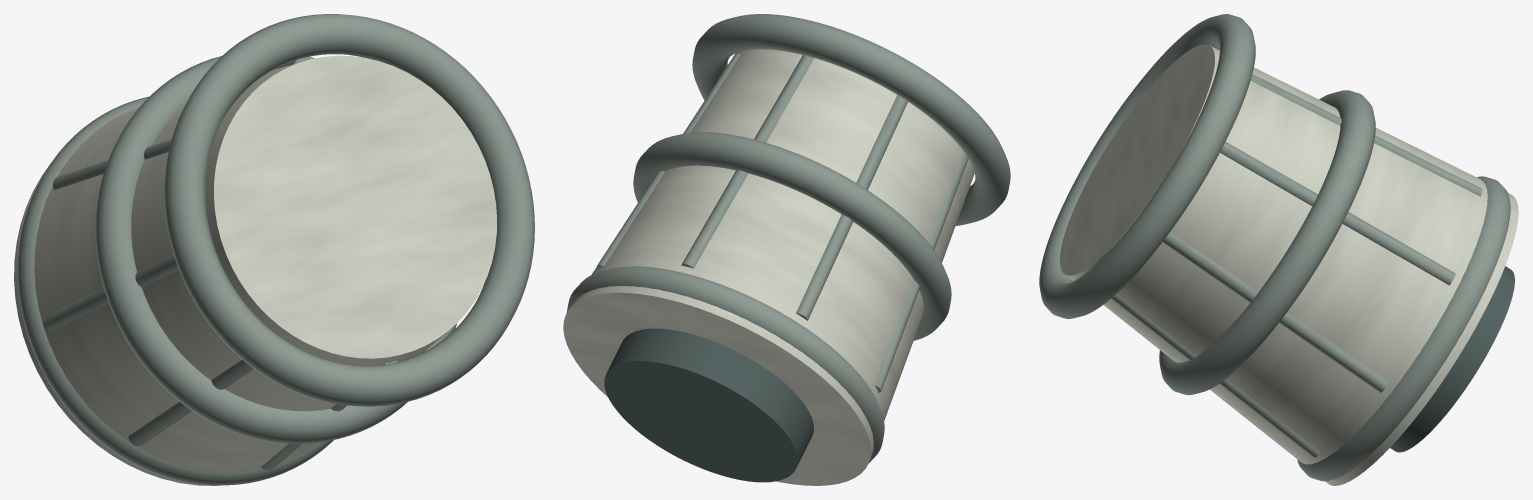
File: Receiver.glb
The picture shows the model from 3 angles, left to right: view 1: azimuth 30°, elevation 25°; view 2: azimuth 150°, elevation 25°; view 3: azimuth 270°, elevation 25°; orthographic projection. The views are drawn at different scales.
Parts seen in each view (by area): view 1: Receiver; view 2: Receiver; view 3: Receiver.
Part boxes in pixels (x1,y1,x2,y2): Receiver: (14, 14, 534, 485); Receiver: (563, 14, 1010, 485); Receiver: (1039, 14, 1518, 485).
Size of the model in its own units: 1.27 by 1.73 by 1.73.
Materials: 3 (2 with a texture image).
